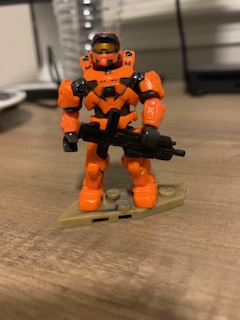chief: (53, 28, 168, 215)
rifle: (77, 105, 186, 167)
